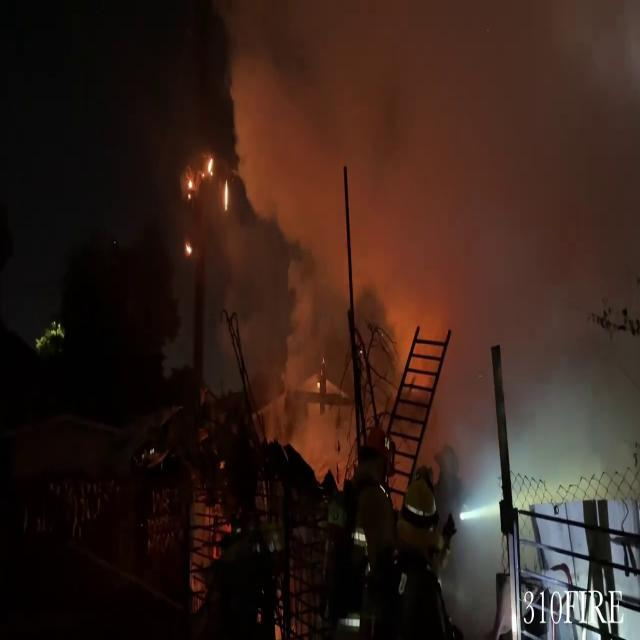Smoke: (215, 0, 637, 472)
